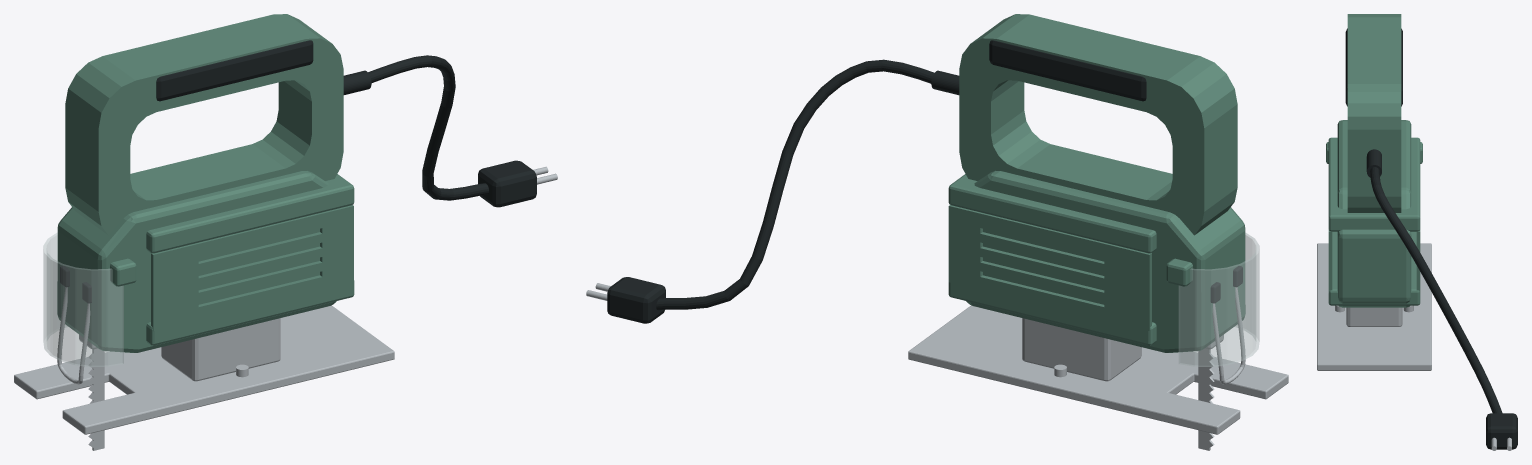
File: full.fbx
The picture shows the model from 3 angles, left to right: view 1: azimuth 30°, elevation 25°; view 2: azimuth 150°, elevation 25°; view 3: azimuth 270°, elevation 25°; orthographic projection. The views are drawn at different scales.
Visible parts, largest first — view 1: D shaped open upper handle, Motor core and end housings, Open front U shoe, Open vent side skin -1, Curved translucent front cover, Side skin fixed bridge 0.125, Central metal shoe pedestal, Upper dark grip, Side skin fixed bridge 0.061, Complete authored power cable, Generic closed cable plug, Short static toothed blade (+3 smaller); view 2: D shaped open upper handle, Motor core and end housings, Open front U shoe, Open vent side skin 1, Curved translucent front cover, Side skin fixed bridge 0.125, Complete authored power cable, Central metal shoe pedestal, Upper dark grip, Side skin fixed bridge 0.061, Generic closed cable plug, Short static toothed blade (+1 smaller); view 3: D shaped open upper handle, Motor core and end housings, Open front U shoe, Side skin fixed bridge 0.125, Complete authored power cable, Side skin fixed bridge 0.061, Central metal shoe pedestal, Generic closed cable plug, Upper dark grip, Rear cord strain relief, Open vent side skin -1.
Boxes of the visible parts, box(x1,y1,x2,y2) form: D shaped open upper handle: box(65, 14, 343, 235); Motor core and end housings: box(57, 171, 336, 352); Open front U shoe: box(14, 305, 394, 434); Open vent side skin -1: box(151, 205, 353, 331); Curved translucent front cover: box(43, 233, 123, 366); Side skin fixed bridge 0.125: box(146, 174, 354, 253); Central metal shoe pedestal: box(161, 318, 280, 381); Upper dark grip: box(156, 40, 313, 101); Side skin fixed bridge 0.061: box(146, 280, 354, 345); Complete authored power cable: box(368, 55, 488, 200); Generic closed cable plug: box(478, 160, 536, 207); Short static toothed blade: box(88, 348, 104, 450); D shaped open upper handle: box(959, 14, 1237, 235); Motor core and end housings: box(966, 170, 1245, 352); Open front U shoe: box(908, 305, 1288, 434); Open vent side skin 1: box(948, 205, 1151, 331); Curved translucent front cover: box(1179, 233, 1259, 366); Side skin fixed bridge 0.125: box(948, 174, 1156, 253); Complete authored power cable: box(656, 59, 934, 310); Central metal shoe pedestal: box(1022, 318, 1141, 381); Upper dark grip: box(989, 40, 1146, 101); Side skin fixed bridge 0.061: box(948, 282, 1156, 345); Generic closed cable plug: box(607, 277, 665, 323); Short static toothed blade: box(1198, 348, 1214, 450); D shaped open upper handle: box(1347, 14, 1401, 212); Motor core and end housings: box(1337, 120, 1411, 307); Open front U shoe: box(1317, 243, 1431, 370); Side skin fixed bridge 0.125: box(1328, 137, 1420, 231); Complete authored power cable: box(1370, 167, 1502, 413); Side skin fixed bridge 0.061: box(1328, 231, 1420, 305); Central metal shoe pedestal: box(1346, 307, 1402, 326); Generic closed cable plug: box(1486, 413, 1517, 449); Upper dark grip: box(1345, 28, 1402, 106); Rear cord strain relief: box(1366, 149, 1381, 177); Open vent side skin -1: box(1328, 230, 1332, 292).
Bounding box in the file's own units: 42.27 × 26.1 × 15.75.
